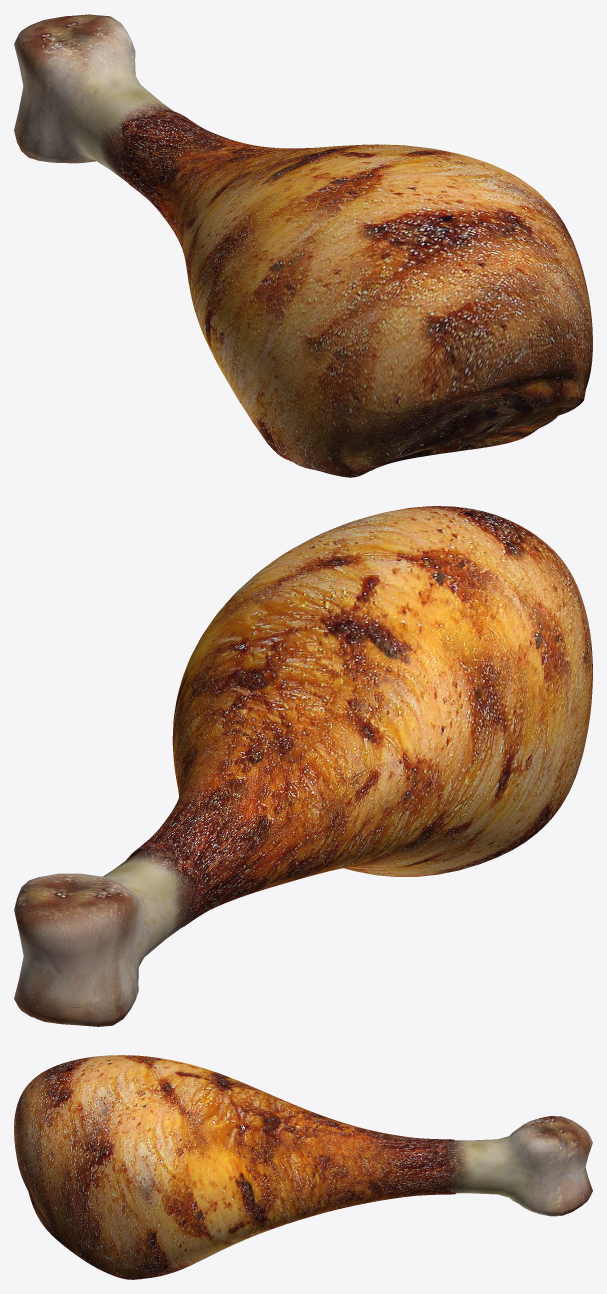
The model's file is turkeyleg-reduced.obj.
3 views of the same model, one above another, from view 1: azimuth 30°, elevation 25°; view 2: azimuth 150°, elevation 25°; view 3: azimuth 270°, elevation 25° (orthographic). The views are drawn at different scales.
Visible parts, largest first — view 1: turkeyleg; view 2: turkeyleg; view 3: turkeyleg.
Boxes of the visible parts, <box> form: turkeyleg: <box>14,14,592,477</box>; turkeyleg: <box>14,506,592,1026</box>; turkeyleg: <box>14,1055,592,1279</box>.
Bounding box in the file's own units: 92.55 × 81.49 × 227.
